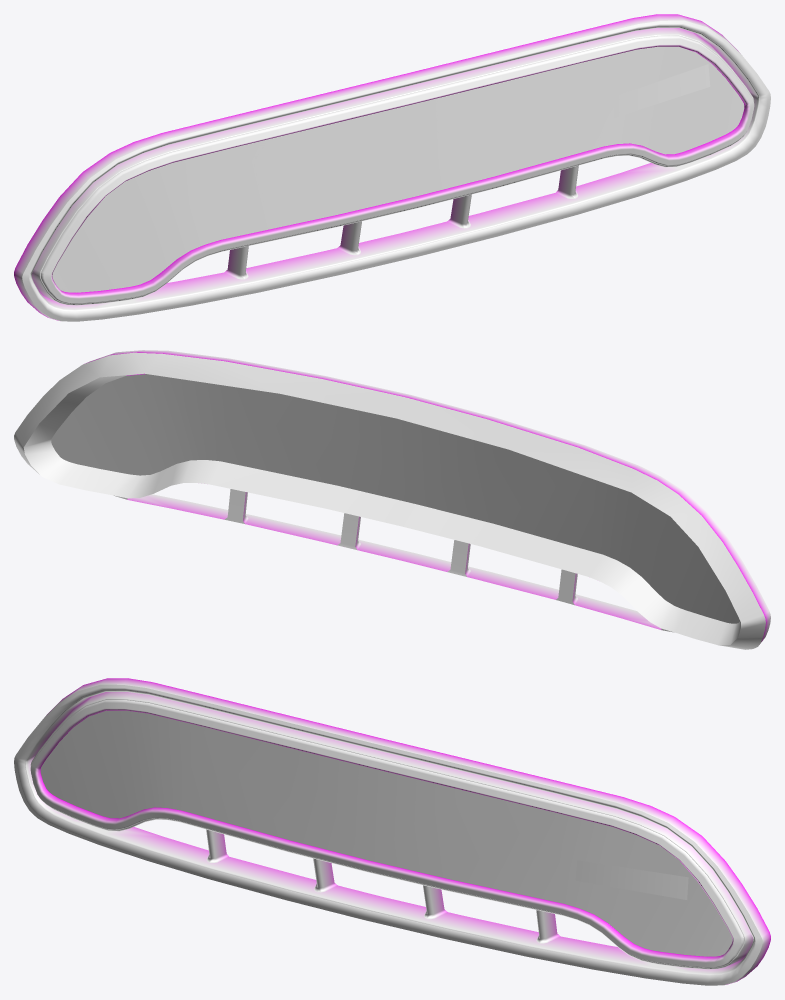
File: Car_Mini_CountrymanJCW_2017_Grille_SetA.fbx
The picture shows the model from 3 angles, top to bottom: view 1: azimuth 30°, elevation 25°; view 2: azimuth 150°, elevation 25°; view 3: azimuth 330°, elevation 25°; orthographic projection.
Parts seen in each view (by area): view 1: Grille 6; view 2: Grille 6; view 3: Grille 6.
Boxes of the visible parts, x1,y1,x2,y2 form: Grille 6: (14, 14, 770, 321); Grille 6: (14, 350, 770, 649); Grille 6: (14, 678, 770, 985).
Size of the model in its own units: 1.07 by 0.2353 by 0.0944.
